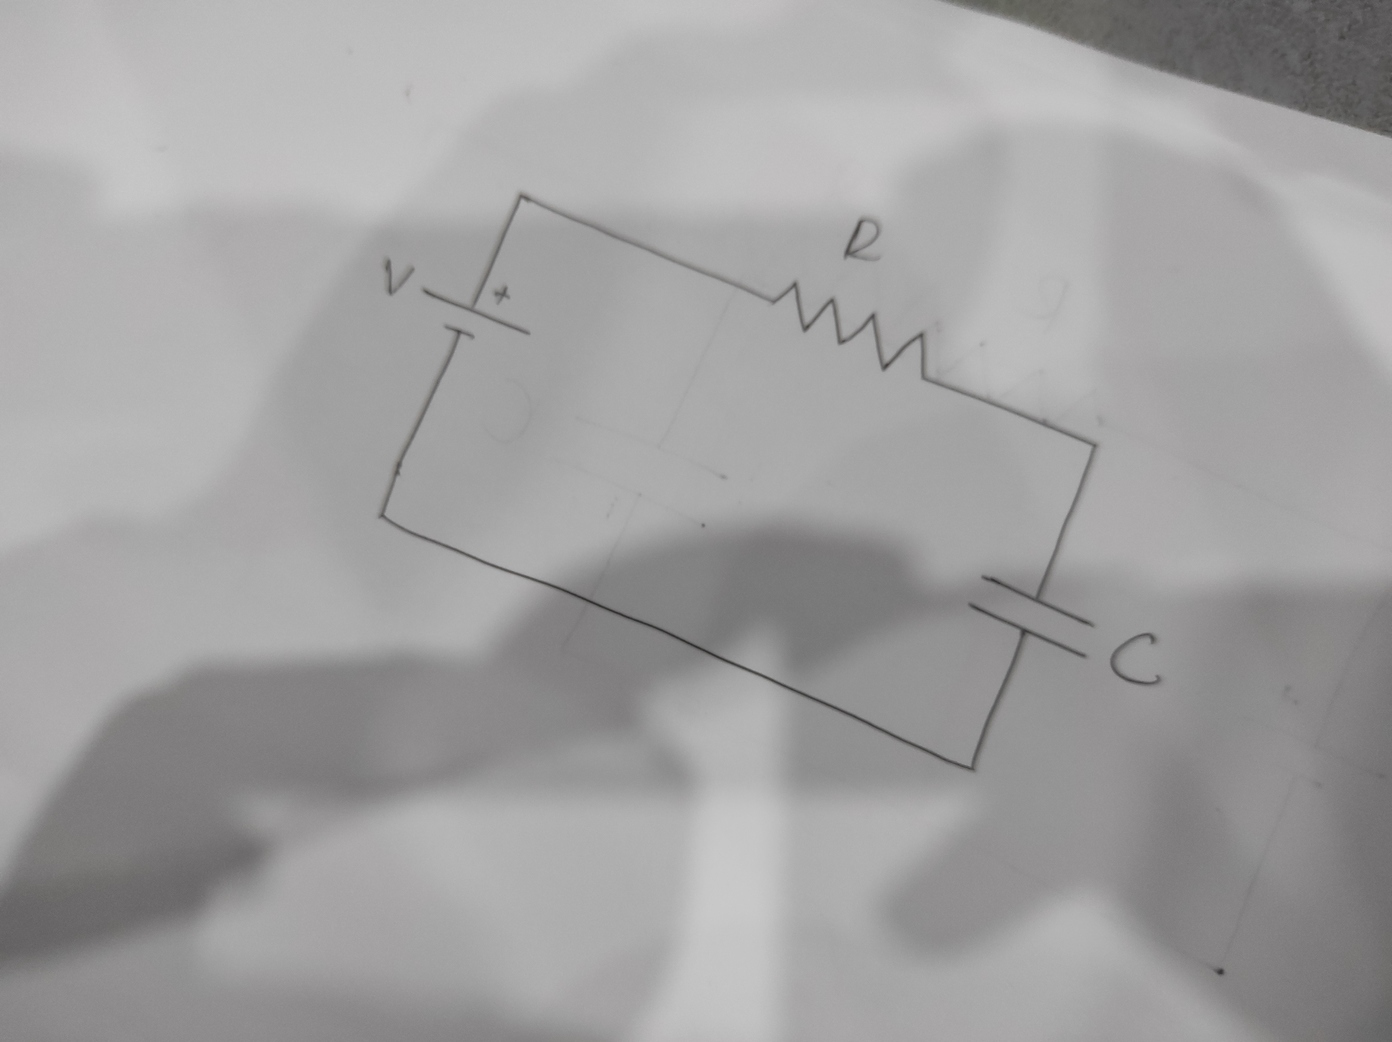capacitor.unpolarized: (964, 571, 1099, 662)
junction: (509, 184, 536, 212), (371, 502, 395, 529), (1083, 435, 1103, 456), (962, 759, 981, 777)
resistor: (759, 278, 933, 387)
text: (1107, 630, 1165, 688), (839, 215, 885, 266), (378, 256, 418, 299)
voltage.dc: (419, 283, 534, 341)
